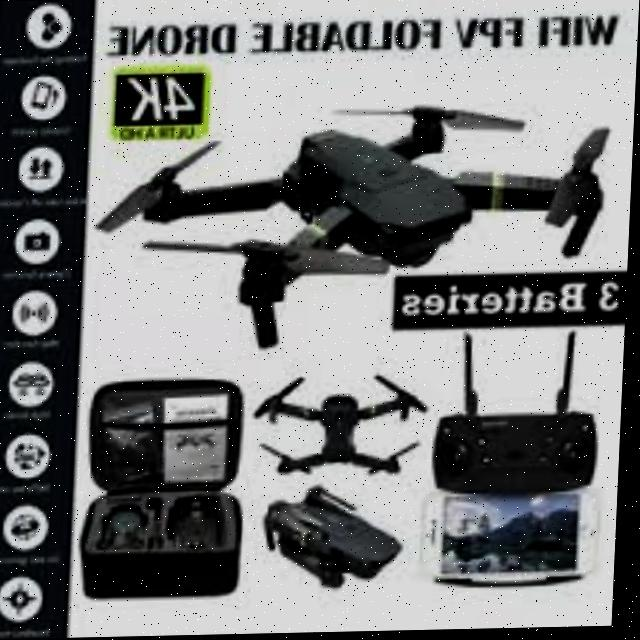drone: (89, 87, 619, 358), (254, 371, 427, 489)
